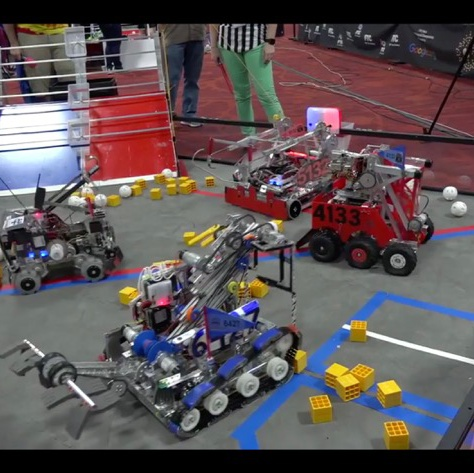robot: (15, 213, 304, 442), (303, 144, 438, 280), (2, 154, 124, 297), (192, 115, 342, 222)
